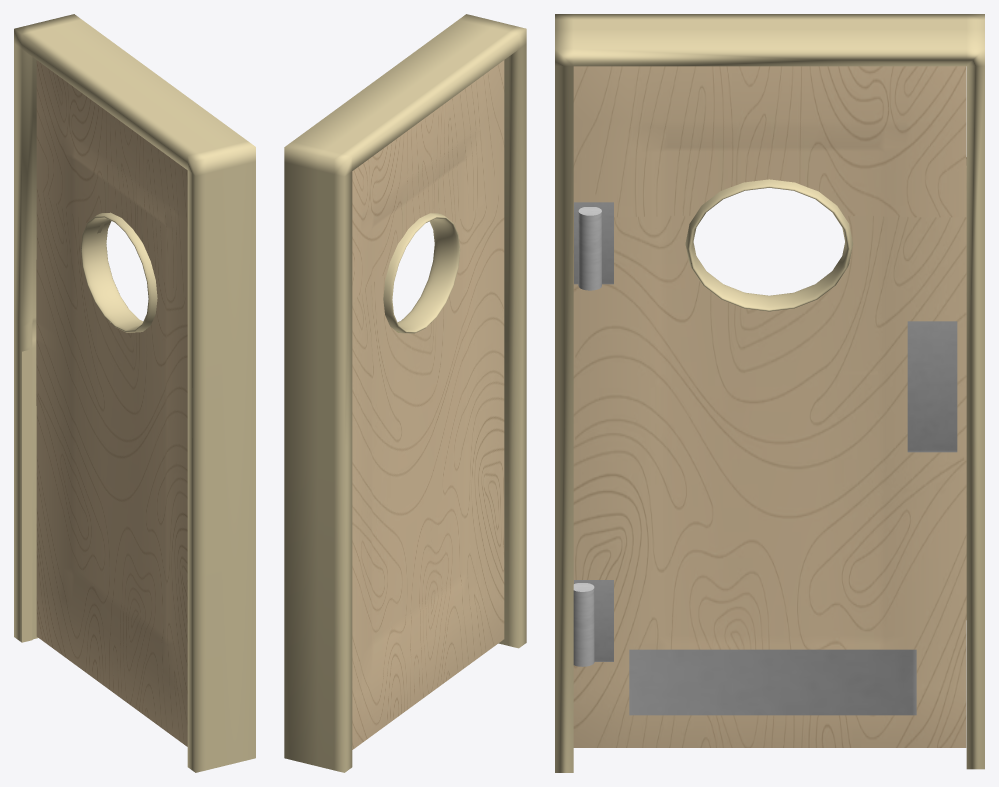
The model's file is door.obj.
3 renders of one model, left to right at view 1: azimuth 30°, elevation 25°; view 2: azimuth 150°, elevation 25°; view 3: azimuth 270°, elevation 25°, orthographic. The views are drawn at different scales.
Parts seen in each view (by area): view 1: puertaCocina2; view 2: puertaCocina2; view 3: puertaCocina2.
Boxes of the visible parts, bbox=[...] form: puertaCocina2: bbox=[14, 14, 255, 772]; puertaCocina2: bbox=[284, 14, 526, 772]; puertaCocina2: bbox=[555, 14, 984, 772].
Size of the model in its own units: 1.11 by 10.75 by 5.78.
